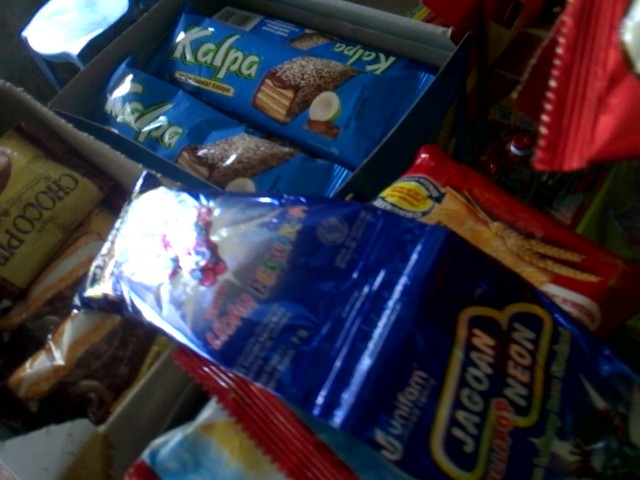jagoan neon: (319, 217, 640, 479)
